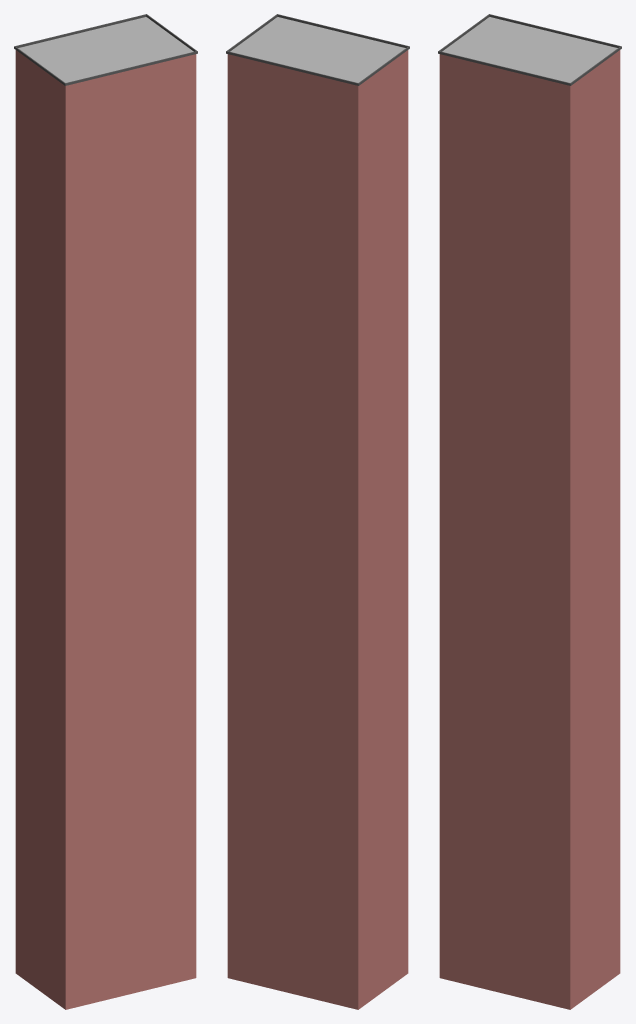
The model's file is Building2.fbx.
3 views of the same model, side by side, from view 1: azimuth 30°, elevation 25°; view 2: azimuth 150°, elevation 25°; view 3: azimuth 330°, elevation 25° (orthographic).
Parts seen in each view (by area): view 1: Cube; view 2: Cube; view 3: Cube.
Part boxes in pixels (x1,y1,x2,y2): Cube: (14,14,197,1009); Cube: (226,14,409,1009); Cube: (438,14,621,1009).
Bounding box in the file's own units: 600 × 4006 × 400.
